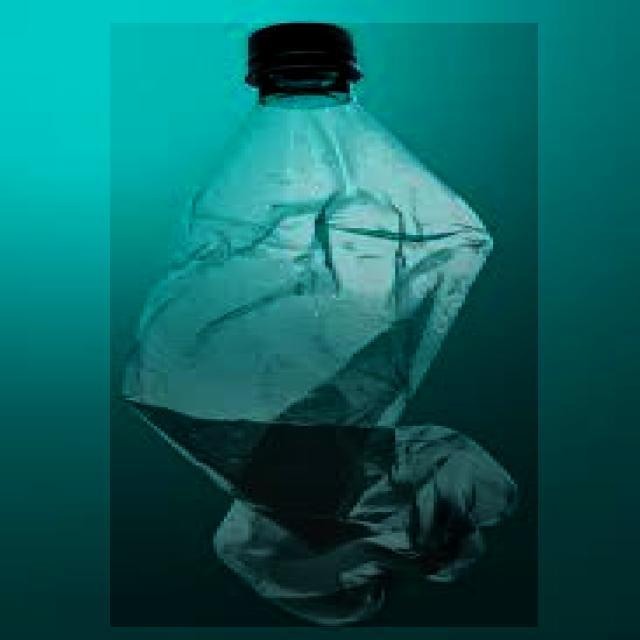BIODEGRADABLE: (111, 23, 538, 627)
